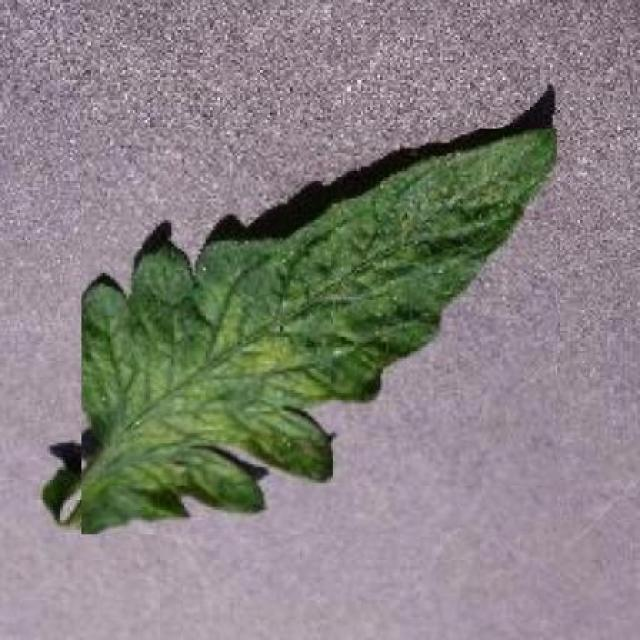Mosaic Virus: (82, 129, 557, 534)
